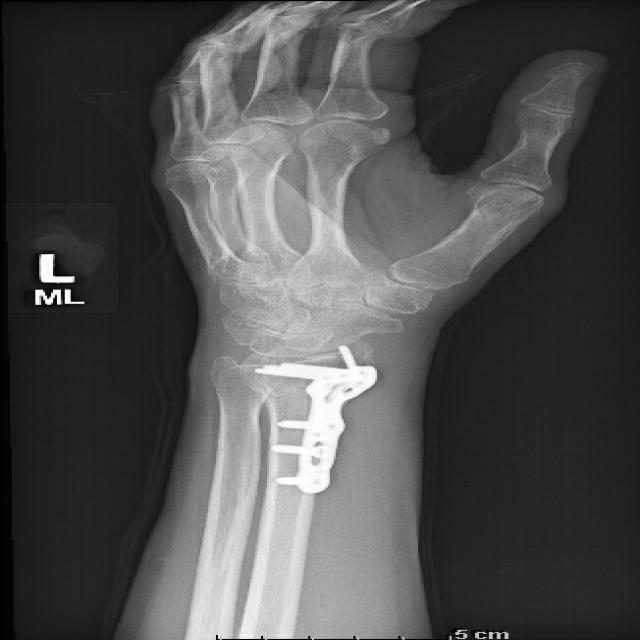x-ray: (243, 335, 381, 502)
